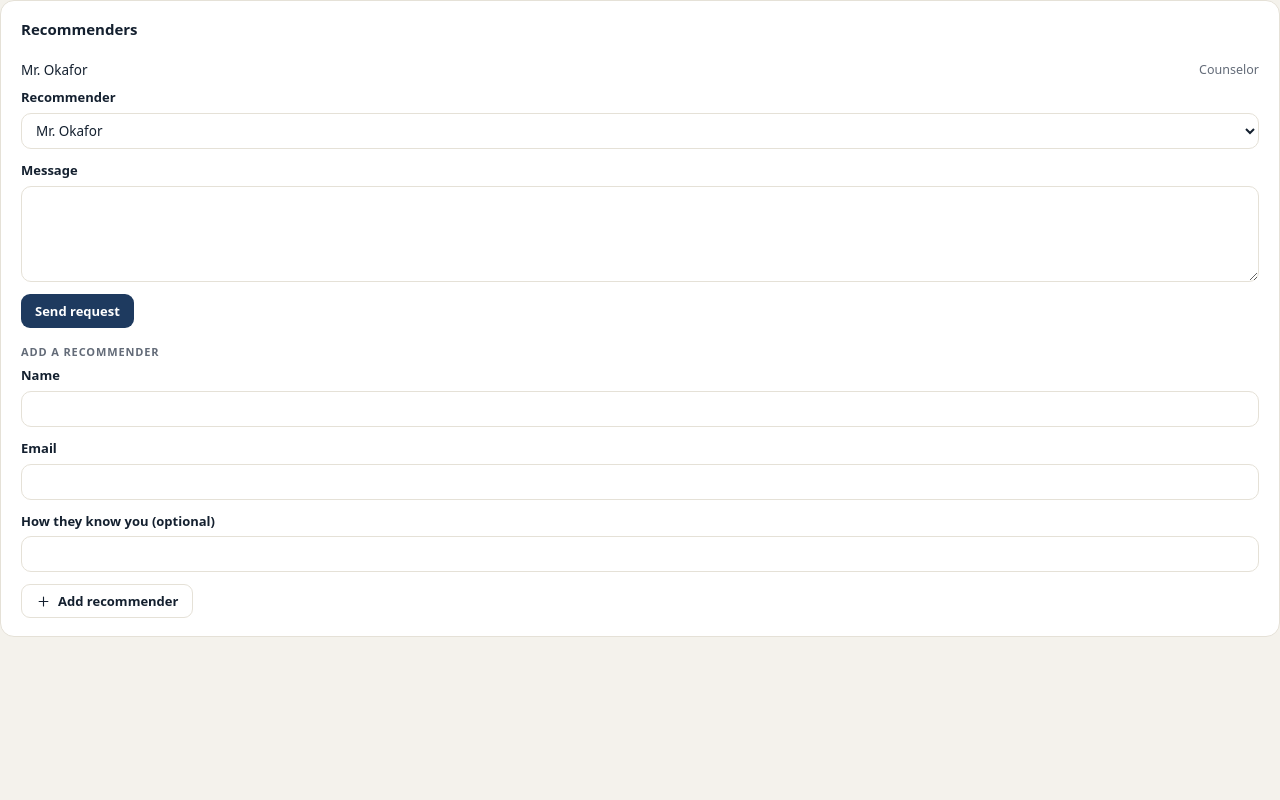
Test case: Recommenders › requests a letter and explains the helper link that was created
Type "Could you write for State U?" into the text box labelled "Message" at [640, 234], box [21, 186, 1259, 282]
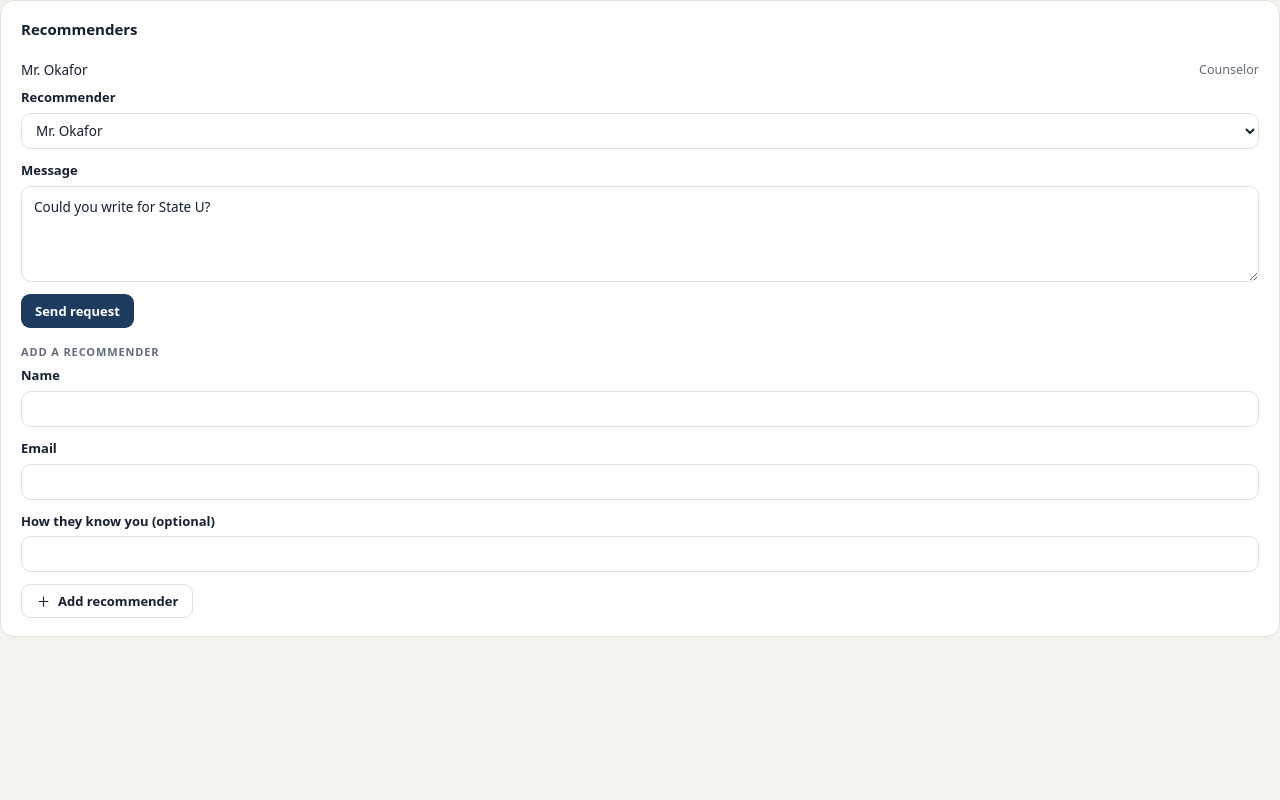
Click the button "Send request" at [77, 311], box [21, 294, 134, 328]
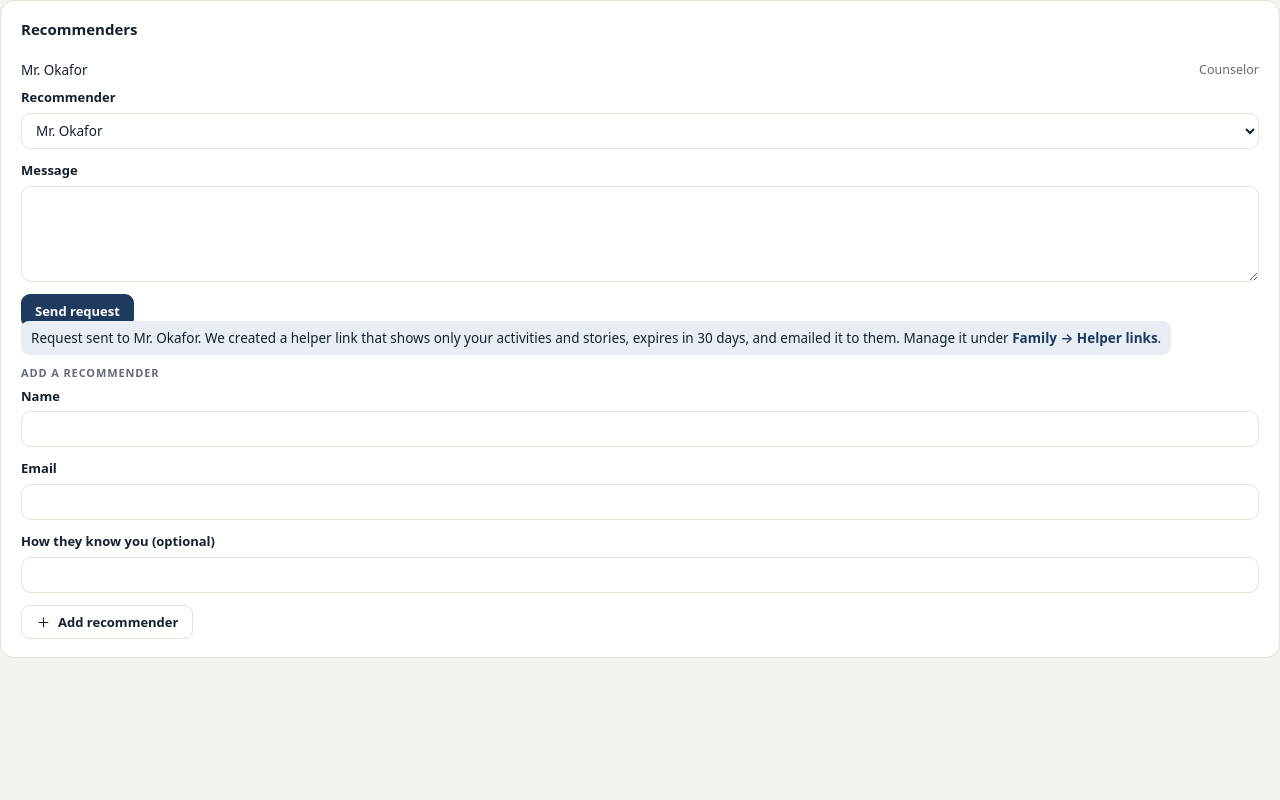
Expected: the text "Request sent to Mr. Okafor" is shown, [31, 329, 1012, 347]
Expected: the text "helper link" is shown, [31, 329, 1012, 347]
